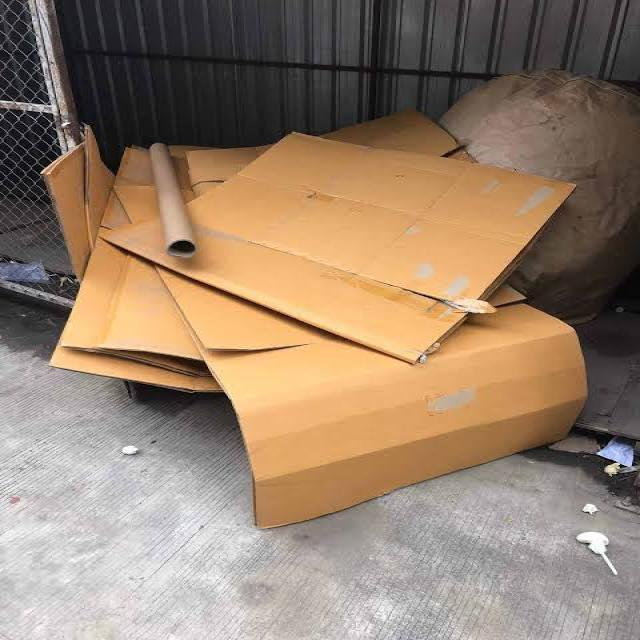cardboard: (46, 154, 570, 549)
